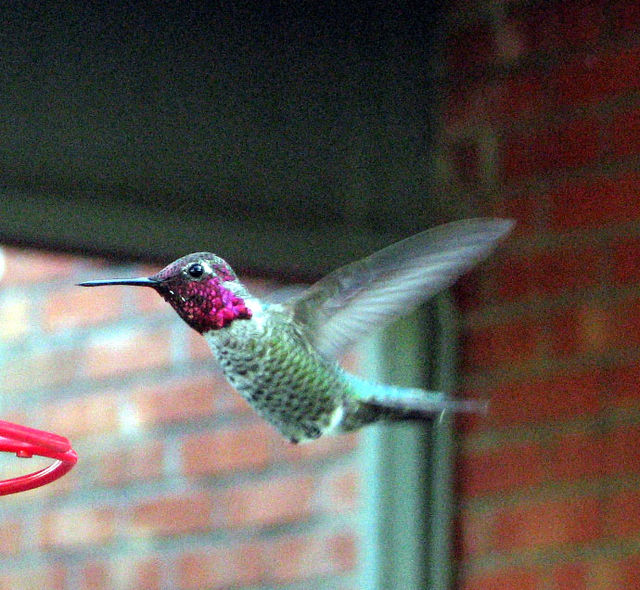calypte anna: (77, 218, 515, 445)
